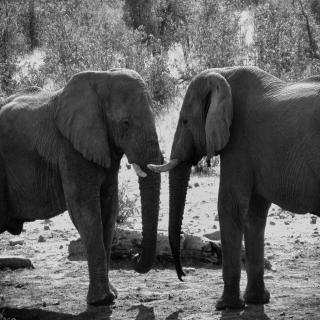Elephant: (150, 56, 320, 320), (1, 65, 169, 311)
